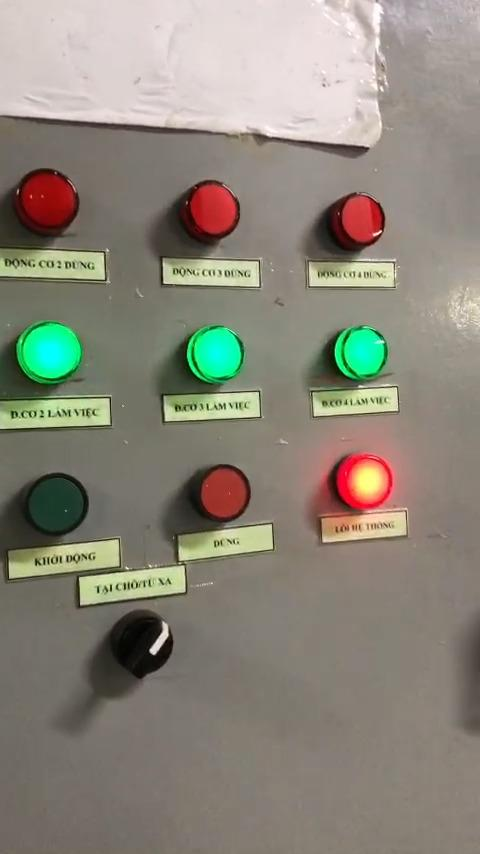led: (12, 166, 84, 233), (24, 471, 91, 539), (17, 318, 83, 385), (358, 464, 421, 531), (184, 320, 248, 385), (183, 179, 245, 245), (192, 464, 254, 524), (329, 190, 388, 252), (358, 336, 410, 398)
twist: (104, 602, 174, 670)
